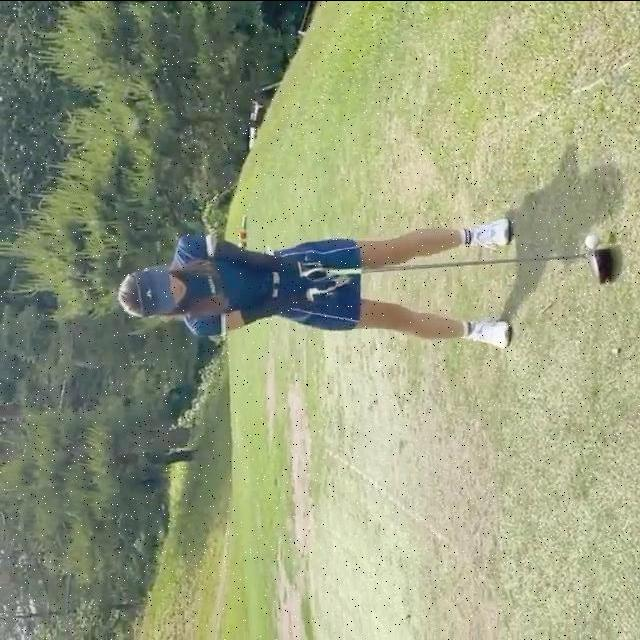golf ball: (584, 234, 601, 247)
golf club-handle: (326, 248, 611, 282)
golf club-head: (589, 247, 610, 283)
